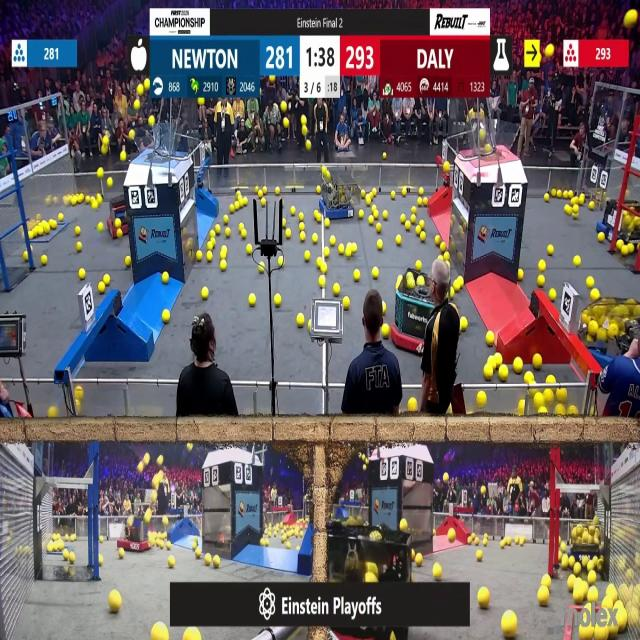ball_airborne: (626, 10, 638, 24), (484, 143, 492, 155), (144, 512, 151, 524), (138, 86, 144, 98), (152, 478, 158, 490), (98, 168, 105, 178), (134, 100, 140, 111), (281, 102, 287, 113), (151, 491, 157, 502), (302, 115, 309, 124), (130, 130, 136, 140), (120, 150, 126, 160), (283, 118, 289, 128), (148, 116, 154, 126), (306, 140, 312, 150), (138, 462, 144, 472), (303, 128, 309, 138), (144, 79, 149, 91), (144, 454, 149, 466), (100, 145, 106, 155), (107, 178, 113, 188), (159, 472, 165, 482), (444, 162, 450, 172), (103, 136, 109, 145), (322, 168, 328, 177), (159, 456, 165, 465), (481, 131, 486, 141), (445, 472, 450, 481), (200, 96, 205, 104), (362, 464, 366, 471)
ball_ground: (502, 613, 516, 640), (109, 592, 121, 613), (479, 588, 490, 610), (152, 624, 167, 640), (572, 589, 585, 605), (538, 588, 548, 608), (580, 626, 593, 640), (498, 364, 508, 380), (588, 588, 598, 604), (478, 392, 488, 407), (514, 358, 524, 372), (484, 364, 494, 378), (183, 630, 196, 640), (432, 564, 441, 578), (557, 388, 566, 401), (486, 333, 494, 347), (533, 354, 541, 368), (296, 314, 304, 328), (410, 398, 418, 412), (382, 324, 390, 337), (588, 571, 596, 584), (572, 563, 580, 576), (591, 289, 600, 300), (556, 406, 565, 417), (202, 287, 210, 299), (48, 408, 56, 420), (212, 556, 220, 568), (541, 574, 549, 586), (456, 278, 464, 290), (545, 44, 553, 56), (568, 408, 577, 418), (587, 277, 595, 288), (525, 372, 533, 383), (448, 530, 456, 541), (68, 553, 76, 564), (164, 311, 171, 323), (275, 294, 282, 306), (249, 293, 256, 305), (460, 318, 467, 330), (371, 268, 378, 280), (343, 296, 350, 308), (318, 276, 325, 288), (550, 288, 557, 300), (99, 282, 106, 294), (416, 554, 423, 566), (568, 576, 574, 590), (399, 520, 406, 532), (334, 284, 342, 294), (546, 376, 554, 386), (519, 399, 525, 412), (538, 262, 545, 273), (573, 255, 580, 266), (220, 248, 227, 259), (346, 246, 353, 257), (205, 555, 212, 566), (354, 270, 360, 282), (164, 272, 170, 284), (518, 270, 524, 282), (495, 353, 501, 365), (562, 557, 568, 569), (488, 354, 494, 366), (78, 270, 85, 280), (169, 557, 176, 567), (285, 230, 292, 240), (123, 256, 130, 266), (316, 256, 323, 266), (622, 246, 629, 256), (538, 276, 544, 287), (246, 244, 252, 255), (598, 233, 604, 244), (195, 250, 201, 261), (104, 275, 110, 286), (278, 258, 284, 269), (578, 193, 584, 204), (41, 255, 47, 265), (220, 262, 226, 272), (546, 245, 552, 255), (416, 262, 422, 272), (396, 236, 402, 246), (194, 550, 200, 560), (340, 245, 346, 255), (76, 242, 82, 252), (207, 252, 213, 262), (475, 552, 481, 562), (329, 237, 335, 247), (305, 251, 311, 261), (320, 265, 326, 275), (442, 243, 448, 253), (116, 230, 122, 240), (434, 236, 440, 246), (64, 550, 69, 562), (618, 240, 624, 250), (97, 193, 103, 203), (396, 279, 402, 289), (564, 206, 571, 214), (324, 247, 329, 258), (313, 234, 318, 245), (420, 234, 426, 243), (367, 215, 373, 224), (417, 199, 423, 208), (222, 215, 228, 224), (314, 210, 320, 219), (240, 200, 246, 209), (564, 189, 570, 198), (50, 219, 56, 228), (589, 202, 595, 211), (231, 204, 237, 213), (561, 542, 567, 551), (378, 240, 383, 250), (118, 550, 123, 560), (24, 251, 29, 261), (377, 222, 382, 232), (358, 210, 363, 220), (451, 288, 456, 298), (99, 556, 104, 566), (115, 218, 120, 228), (629, 242, 634, 252), (572, 206, 579, 213), (445, 252, 451, 260), (298, 222, 304, 230), (403, 222, 409, 230), (208, 242, 214, 250), (259, 200, 265, 208), (210, 232, 216, 240), (93, 202, 99, 210), (316, 185, 322, 193), (570, 198, 576, 206), (365, 198, 371, 206), (299, 233, 304, 242), (99, 222, 104, 231), (412, 214, 417, 223), (383, 211, 388, 220), (215, 224, 220, 233), (324, 218, 329, 227), (383, 305, 388, 314), (412, 207, 418, 214), (390, 191, 396, 198), (286, 541, 292, 548), (29, 232, 35, 239), (76, 225, 80, 235), (242, 232, 247, 240), (258, 267, 263, 275), (416, 224, 421, 232), (225, 230, 230, 238), (543, 192, 548, 200), (290, 207, 295, 215), (401, 188, 406, 196), (419, 187, 424, 195), (298, 212, 303, 220), (484, 538, 489, 546), (276, 187, 281, 195), (423, 200, 428, 208), (85, 197, 90, 205), (257, 190, 262, 198), (500, 540, 505, 548), (420, 219, 425, 227), (282, 218, 286, 227), (552, 189, 557, 196), (383, 152, 388, 159), (400, 214, 404, 222), (468, 536, 472, 544), (60, 213, 64, 221), (432, 528, 436, 536), (372, 211, 376, 219), (352, 244, 356, 252), (282, 534, 286, 542), (100, 535, 104, 542), (260, 538, 264, 545), (474, 538, 478, 545), (168, 541, 172, 548), (240, 222, 244, 229), (192, 542, 195, 548), (296, 544, 299, 550)
goal: (464, 122, 521, 160), (130, 129, 188, 160)
robot_blue: (574, 295, 637, 370), (318, 172, 358, 221), (569, 521, 602, 562)
robot_red: (394, 273, 439, 355), (118, 514, 154, 551)
